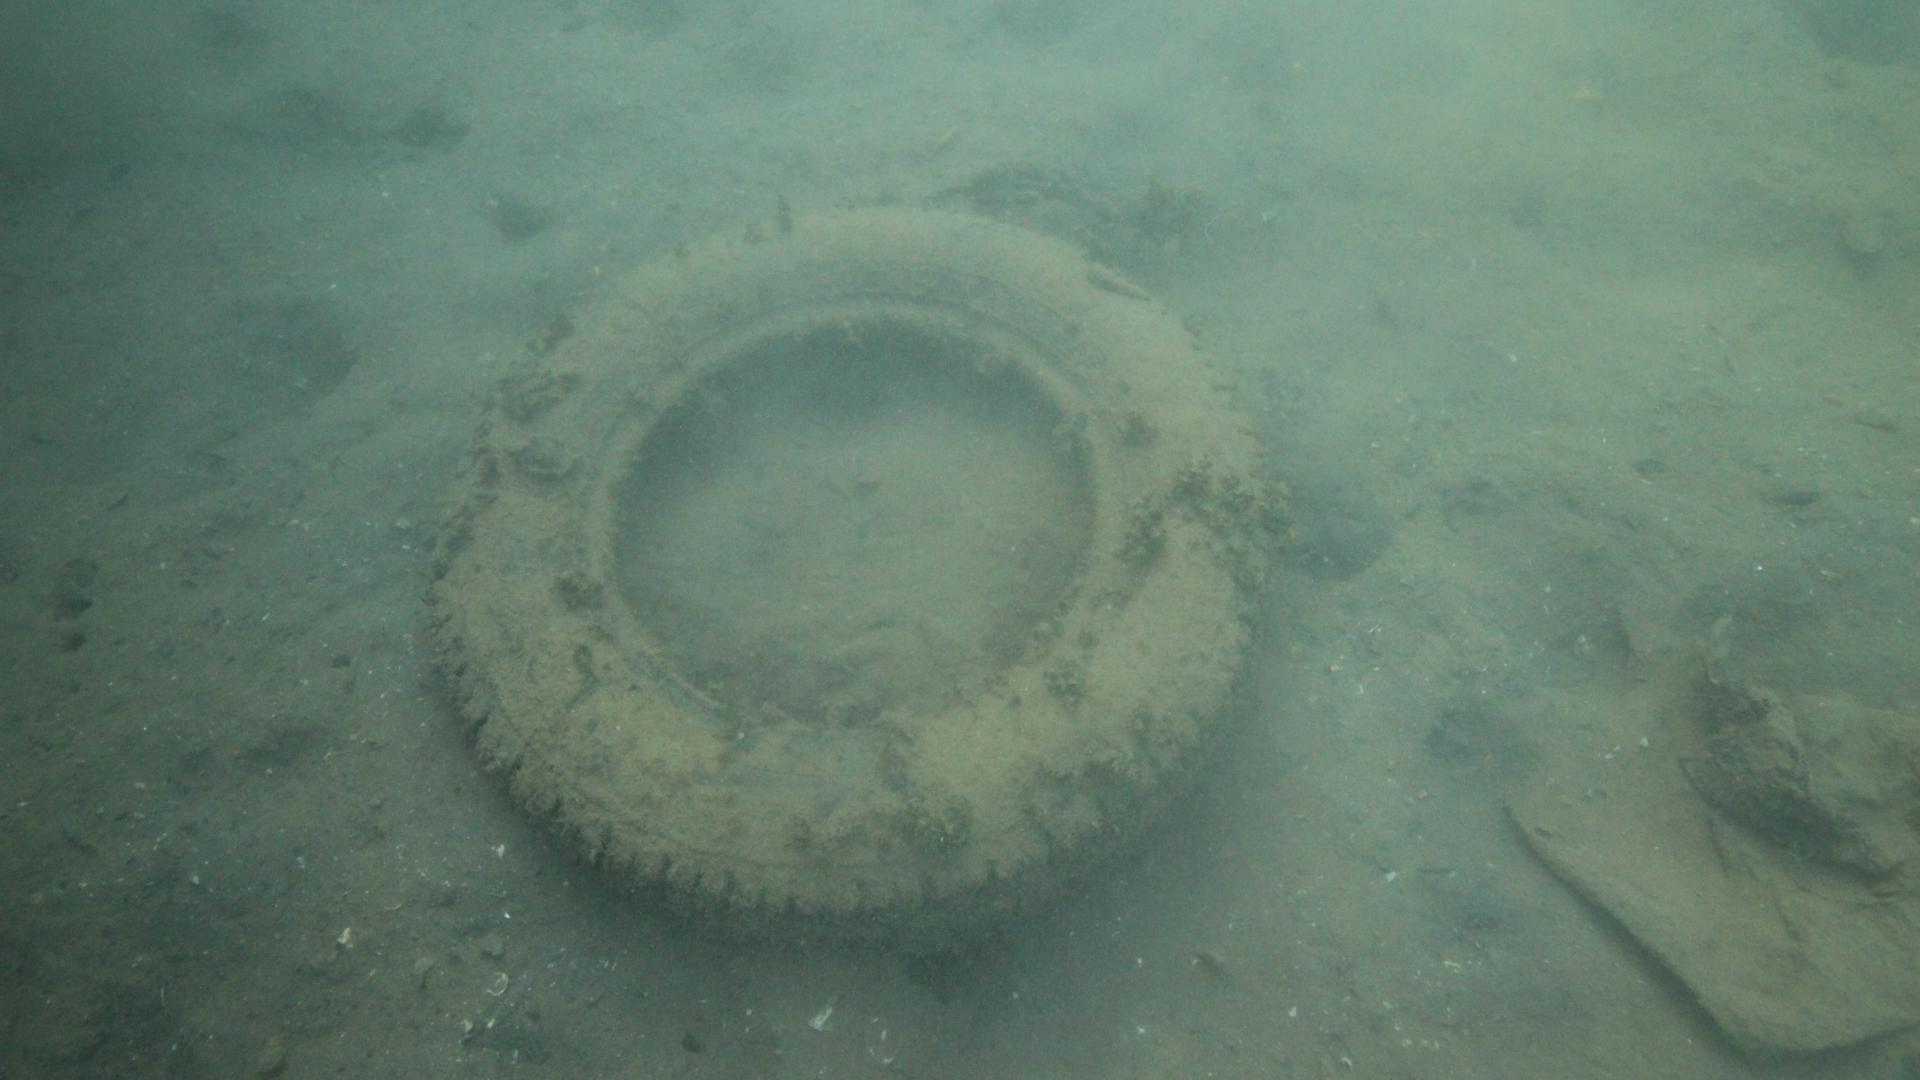tire: (419, 203, 1267, 967)
